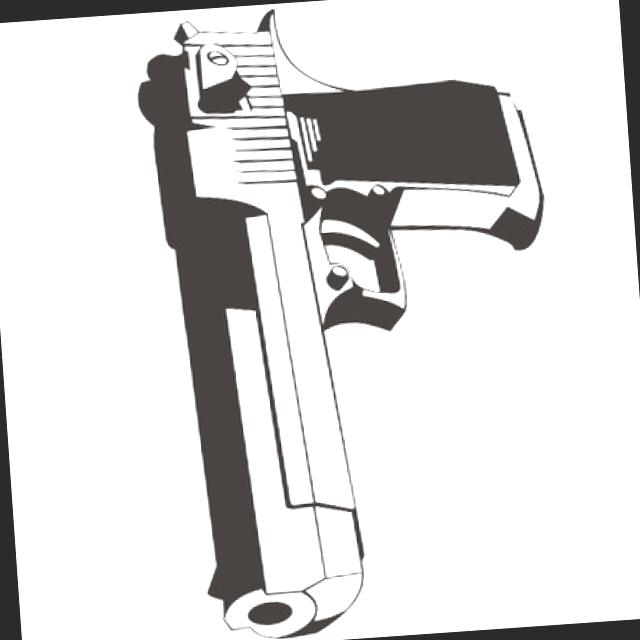handgun: (102, 0, 563, 619)
